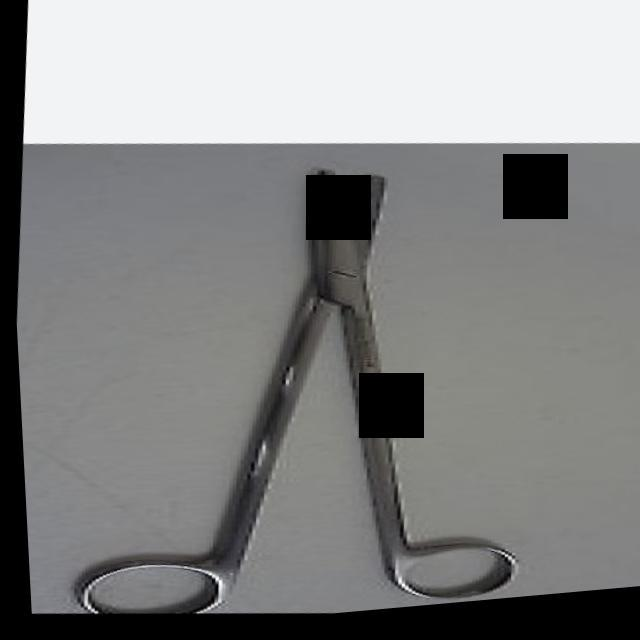Metzenbaum Sciccors: (40, 132, 553, 638)
